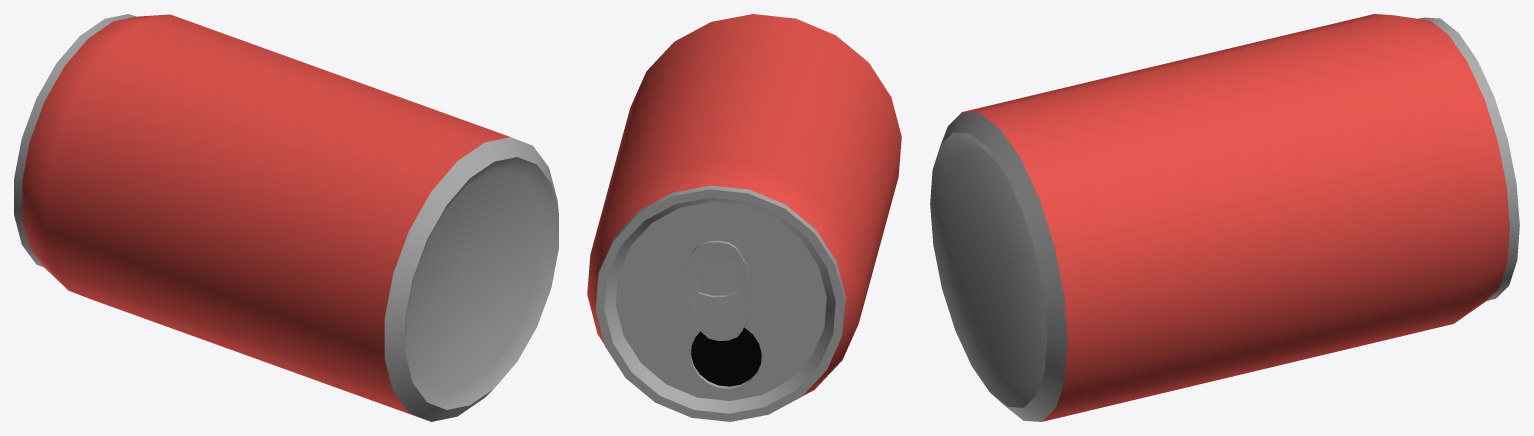
Rendered from CokeCan.fbx.
3 renders of one model, left to right at view 1: azimuth 30°, elevation 25°; view 2: azimuth 150°, elevation 25°; view 3: azimuth 270°, elevation 25°, orthographic. The views are drawn at different scales.
Parts seen in each view (by area): view 1: Can; view 2: Can; view 3: Can.
Boxes of the visible parts, x1,y1,x2,y2 form: Can: [14, 14, 558, 421]; Can: [587, 14, 901, 421]; Can: [930, 14, 1519, 421].
Size of what is drawn, in the model's own units: 0.1181 by 0.0834 by 0.1444.
